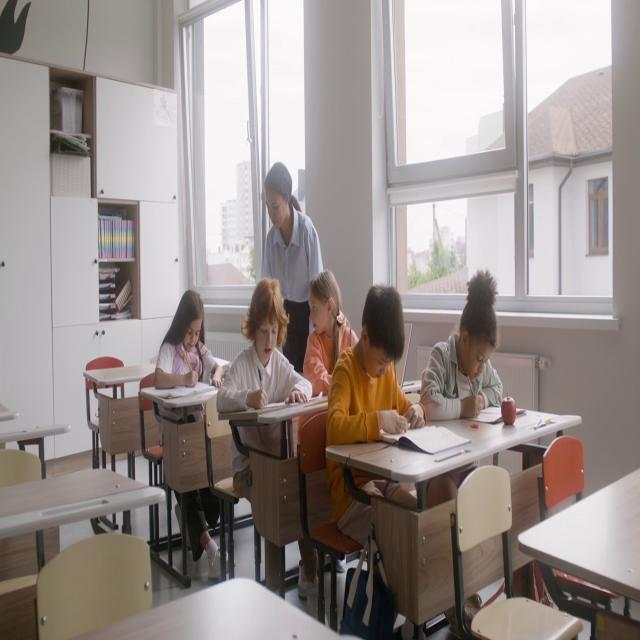turning: (302, 270, 352, 407)
writing: (328, 283, 438, 615), (156, 290, 230, 575), (217, 277, 312, 493), (419, 270, 503, 422)
